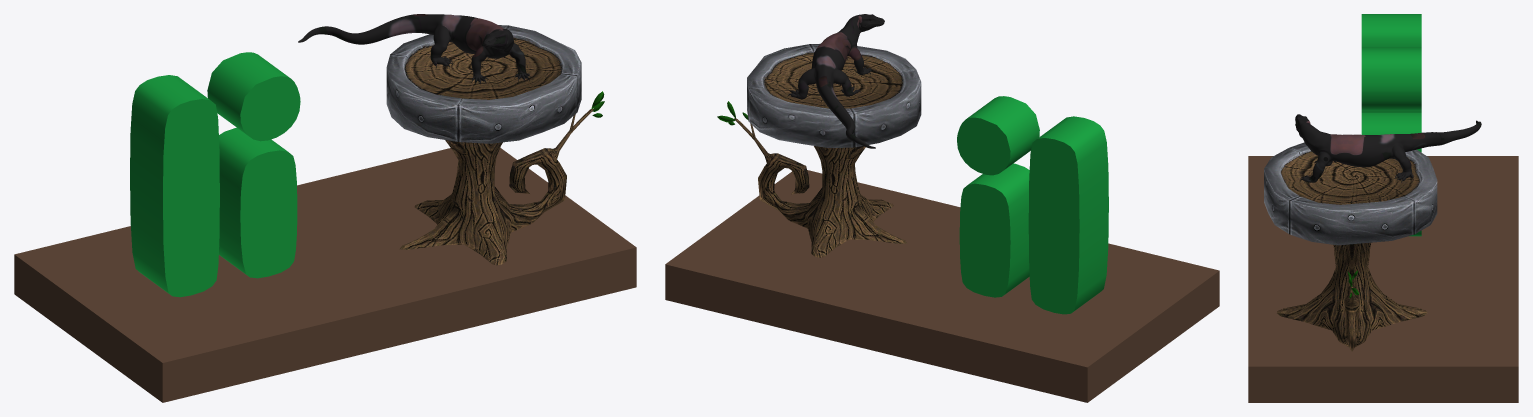
The model's file is Ii_iguana_anim.fbx.
3 views of the same model, side by side, from view 1: azimuth 30°, elevation 25°; view 2: azimuth 150°, elevation 25°; view 3: azimuth 270°, elevation 25° (orthographic). The views are drawn at different scales.
Visible parts, largest first — view 1: root.001, node_id123, node_id47, node_id35; view 2: root.001, node_id123, node_id47, node_id35; view 3: root.001, node_id47, node_id123, node_id35.
Boxes of the visible parts, x1,y1,x2,y2 form: root.001: (14,148,636,402); node_id123: (130,52,300,297); node_id47: (386,25,604,265); node_id35: (298,14,531,84); root.001: (665,170,1219,402); node_id123: (957,96,1108,314); node_id47: (717,43,921,257); node_id35: (787,14,884,148); root.001: (1248,156,1518,402); node_id47: (1264,142,1437,351); node_id123: (1361,14,1421,236); node_id35: (1295,114,1481,182).
Bounding box in the file's own units: 3636 × 1785 × 1857.
